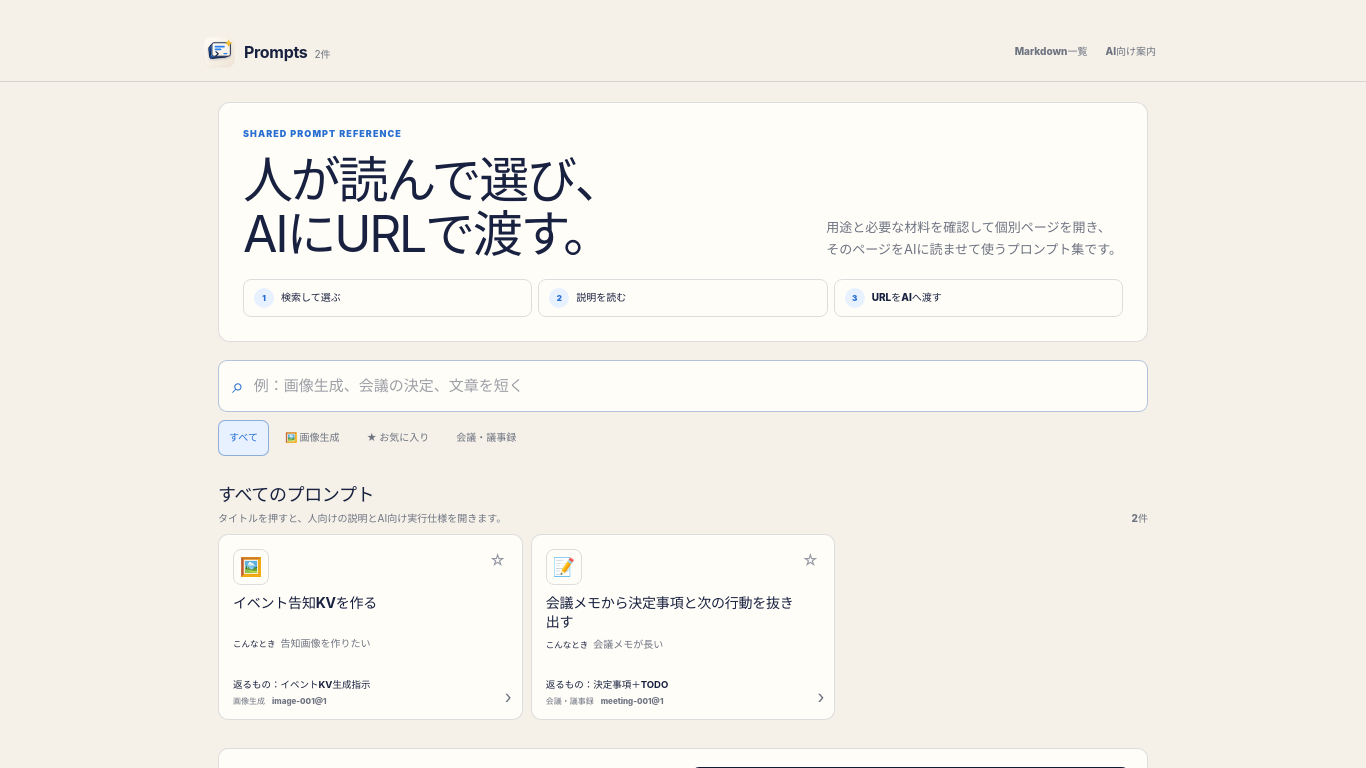
Test case: ReferenceLibraryApp › 0件時は検索語を残して絞り込みだけ解除できる
The width and height of the screenshot is (1366, 768).
Expected: the text "会議メモから決定事項と次の行動を抜き出す" is shown, [546, 592, 796, 632]
Type "会議メモ" into the field named "プロンプトを検索" at (691, 386), box [244, 360, 1139, 410]
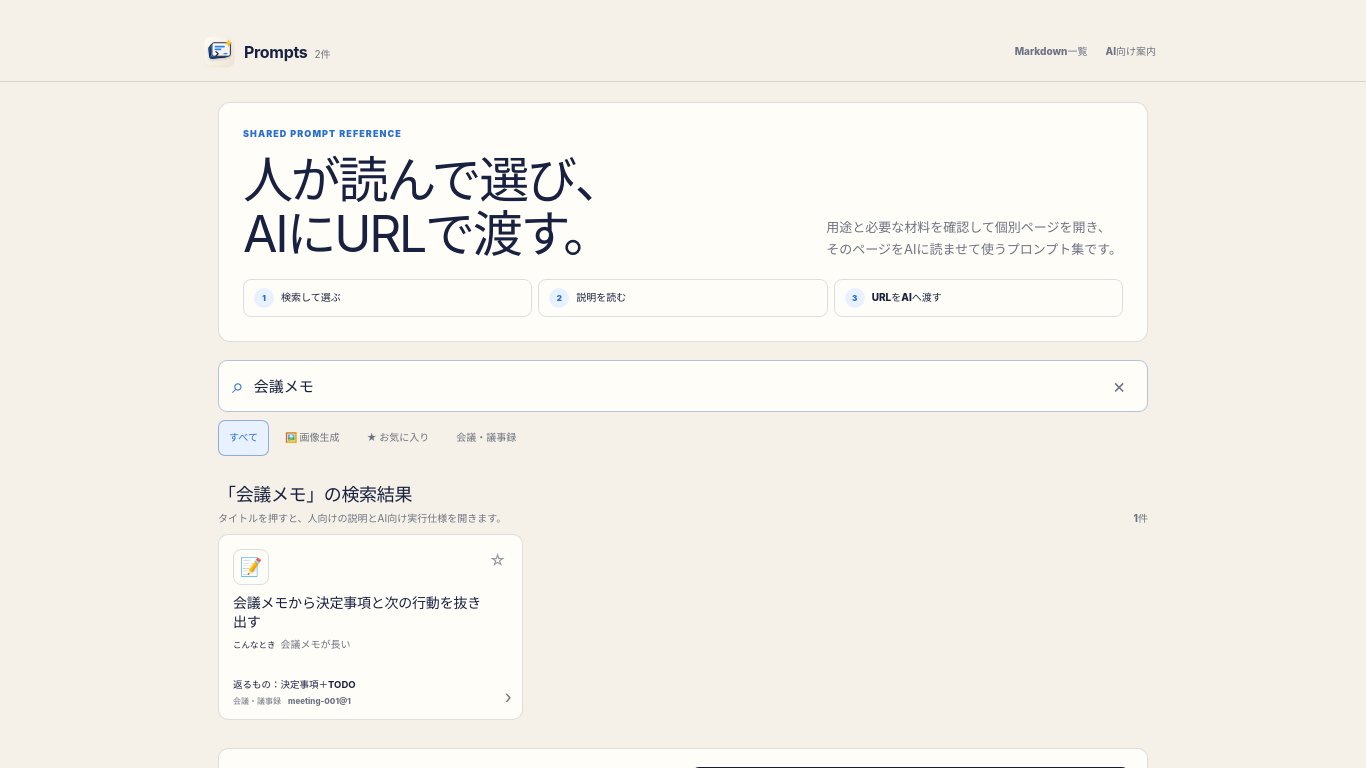
Click the button "🖼️ 画像生成" at (312, 438), box [274, 420, 351, 456]
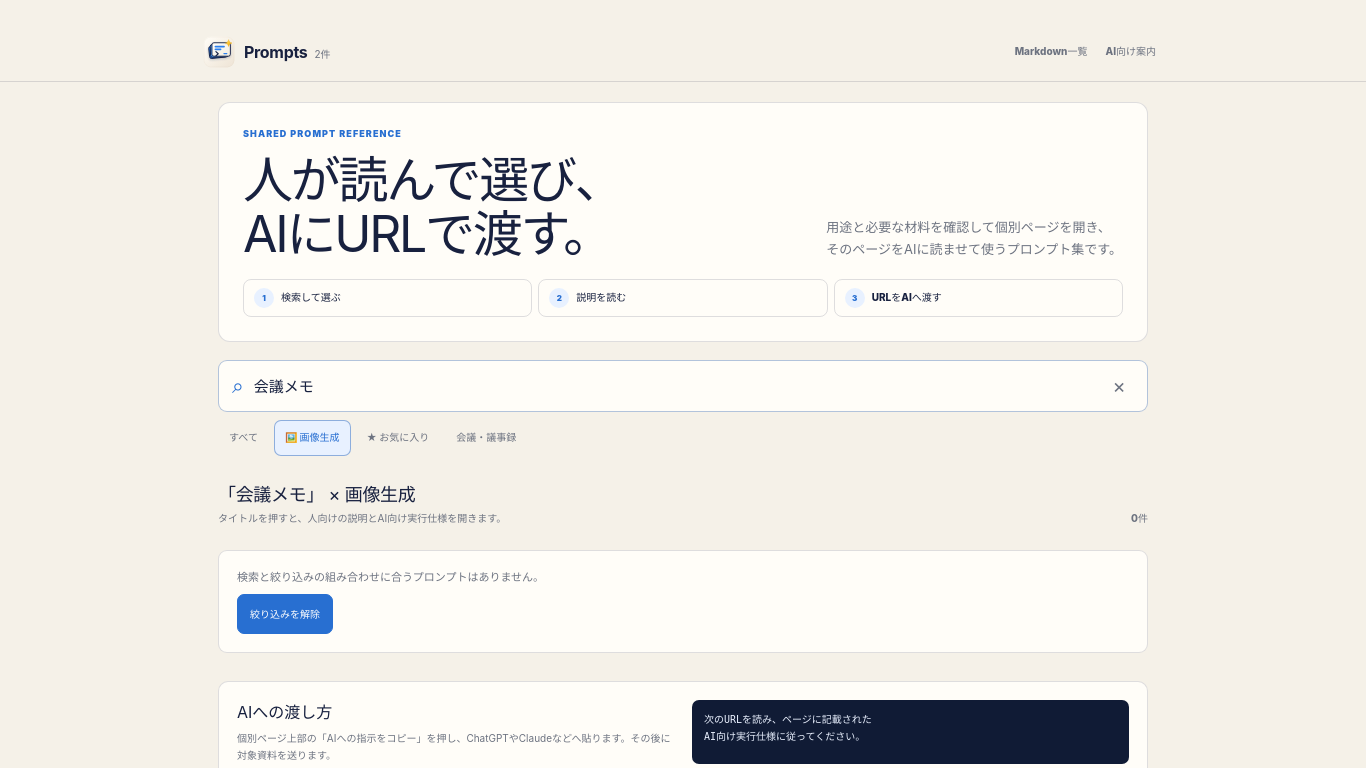
Result: the text "検索と絞り込みの組み合わせに合うプロンプトはありません。" is shown at [237, 570, 544, 584]
Click the button "絞り込みを解除" at (285, 614), box [237, 594, 333, 634]
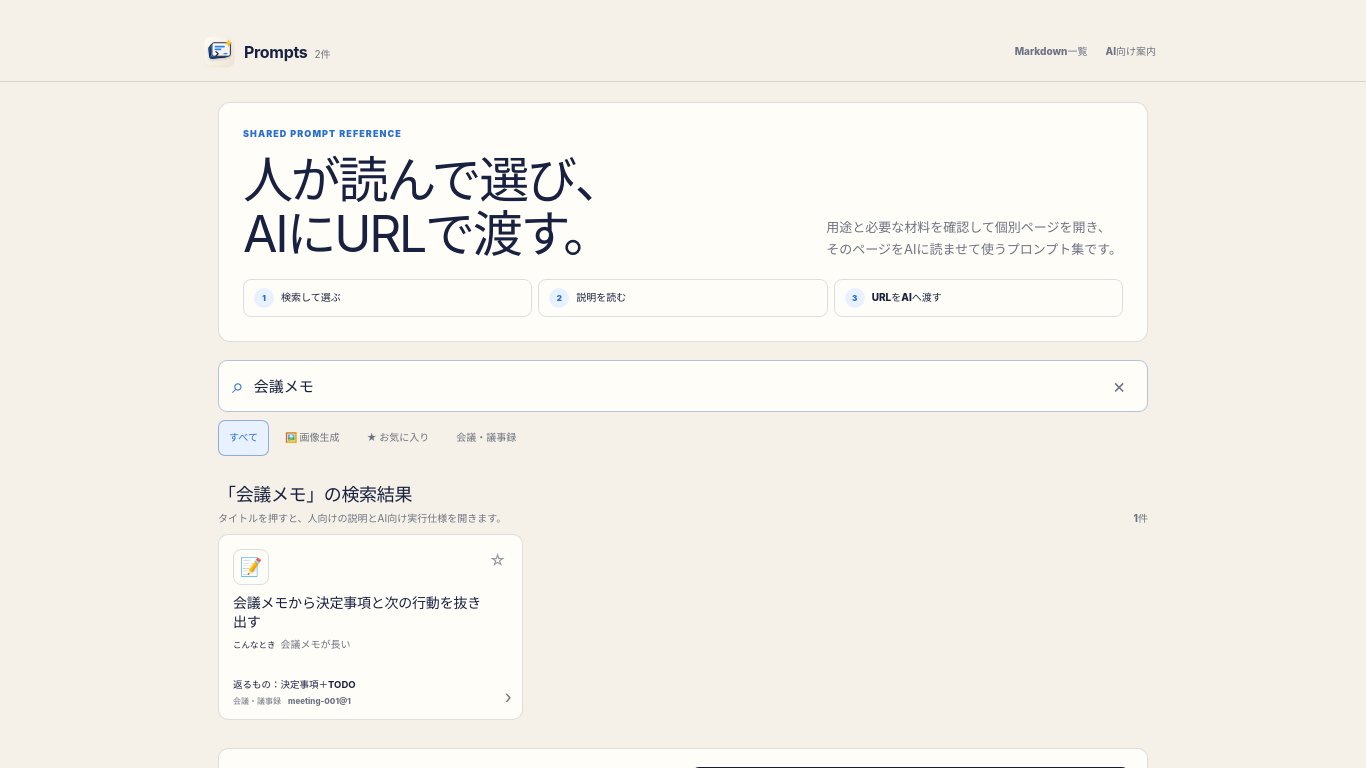
Result: the text "会議メモから決定事項と次の行動を抜き出す" is shown at [233, 592, 484, 632]
